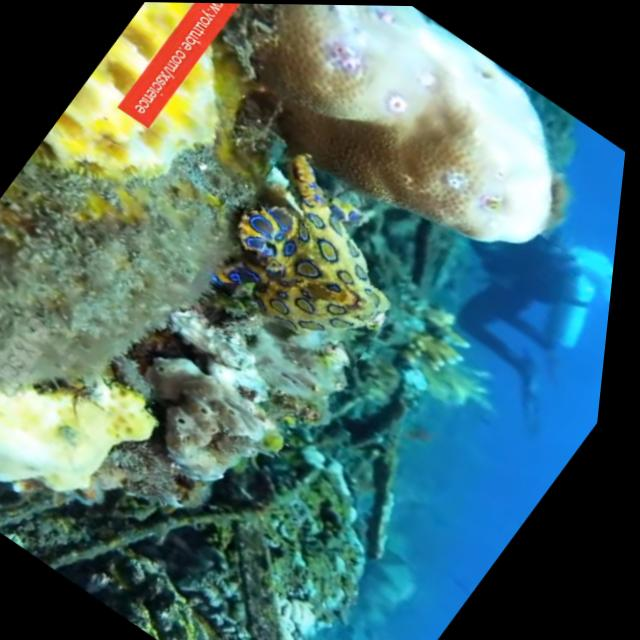blue_ringed_octopus: (192, 137, 456, 373)
